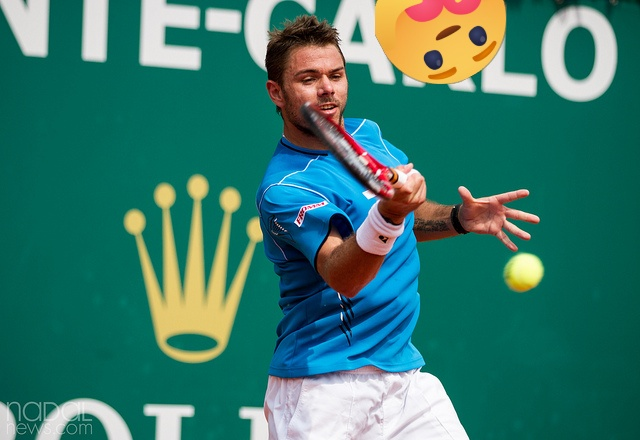care: (375, 0, 506, 84)
